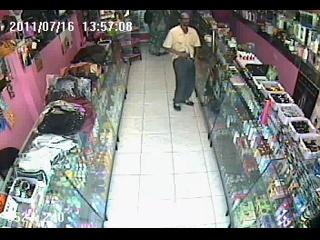Normal: (162, 12, 202, 112)
